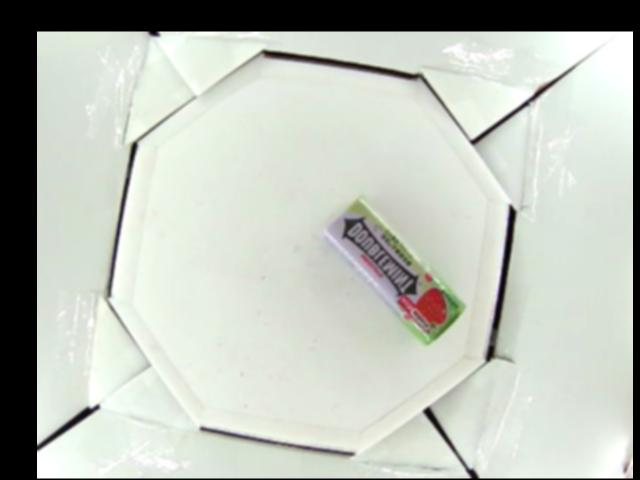Bottle: (323, 193, 465, 349)
